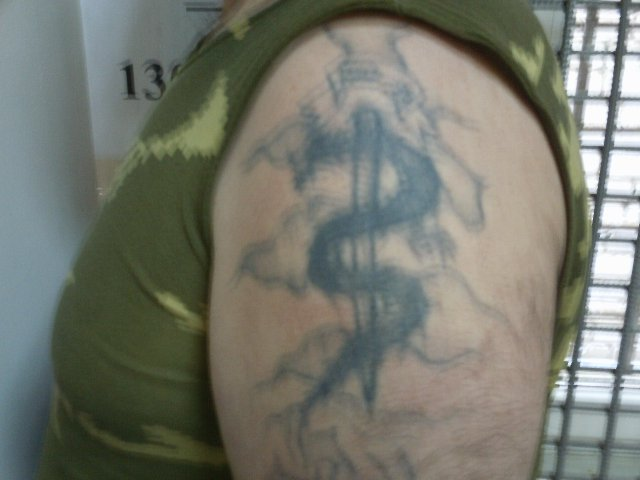tatu7_zmeya: (236, 38, 495, 444)
